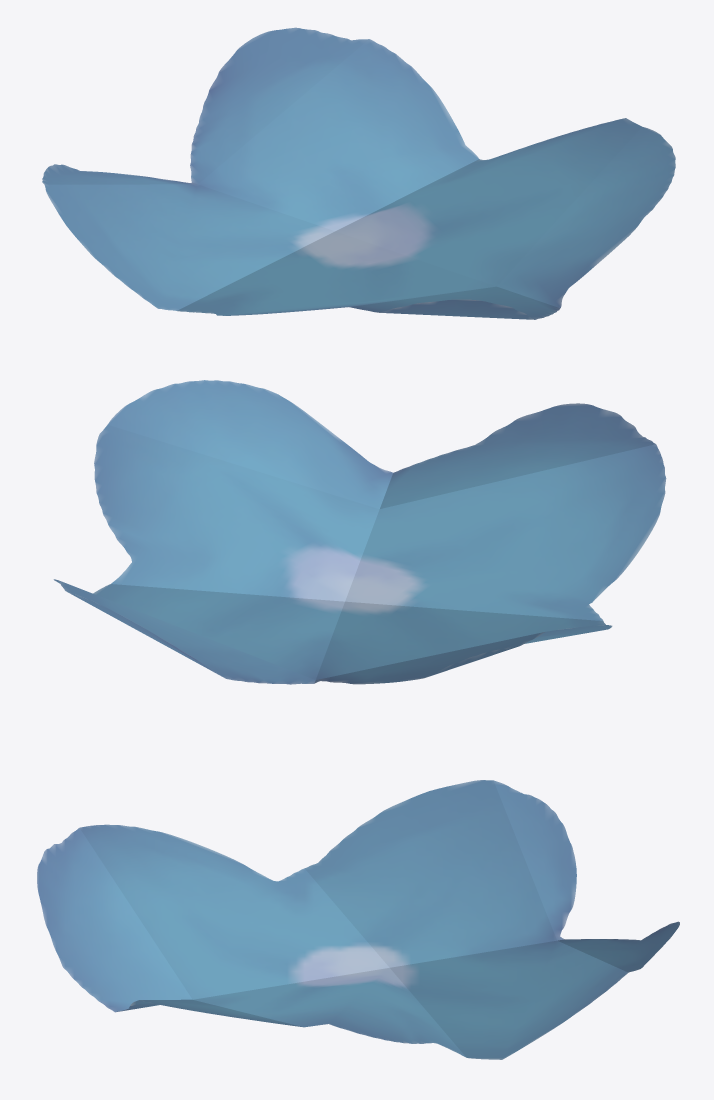
Rendered from SmallFlower_04.fbx.
The picture shows the model from 3 angles, top to bottom: view 1: azimuth 30°, elevation 25°; view 2: azimuth 150°, elevation 25°; view 3: azimuth 270°, elevation 25°; orthographic projection. The views are drawn at different scales.
Visible parts, largest first — view 1: SM_FlowerBlue; view 2: SM_FlowerBlue; view 3: SM_FlowerBlue.
Part boxes in pixels (left/top/right/bottom): SM_FlowerBlue: left=42, top=27, right=675, bottom=319; SM_FlowerBlue: left=53, top=380, right=666, bottom=684; SM_FlowerBlue: left=37, top=780, right=679, bottom=1059.
Bounding box in the file's own units: 9.28 × 1.26 × 9.51.
